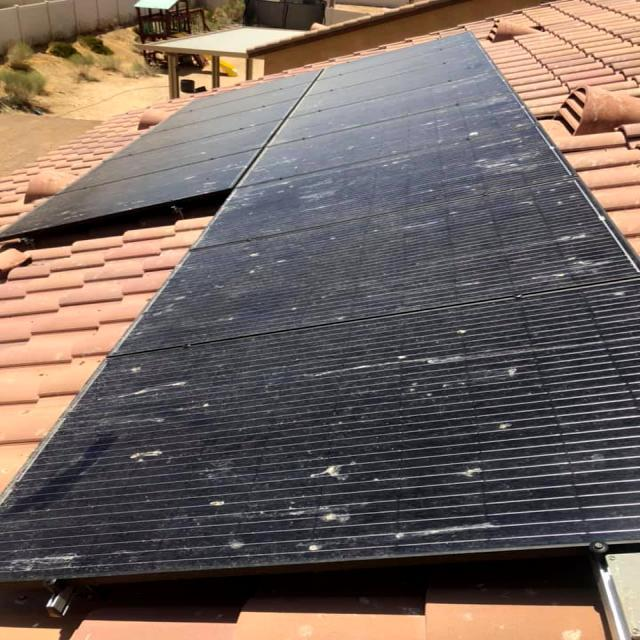soiled: (4, 58, 640, 578)
